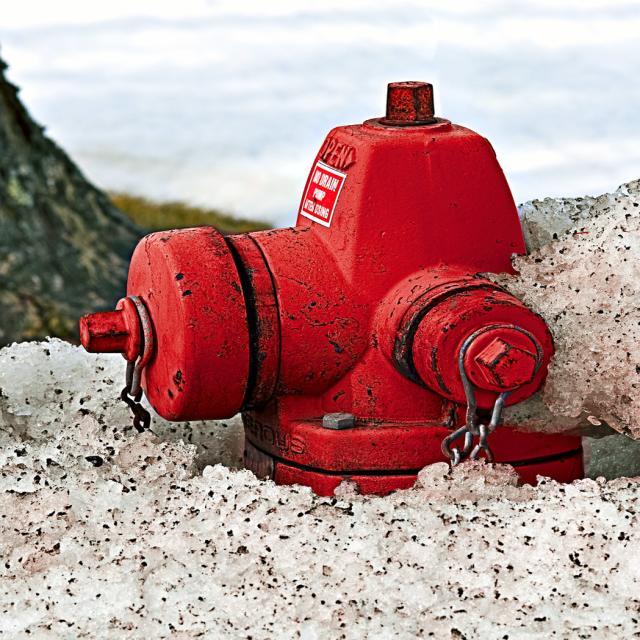fire_hydrant: (78, 79, 582, 497)
